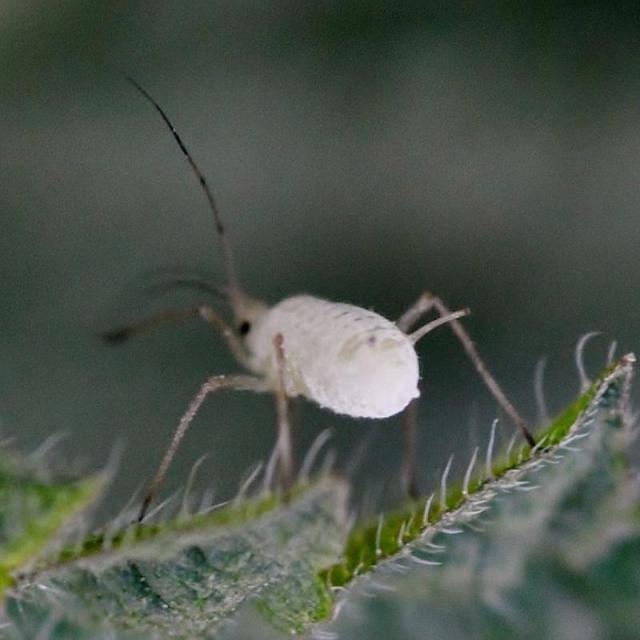Aphids: (88, 77, 527, 503)
